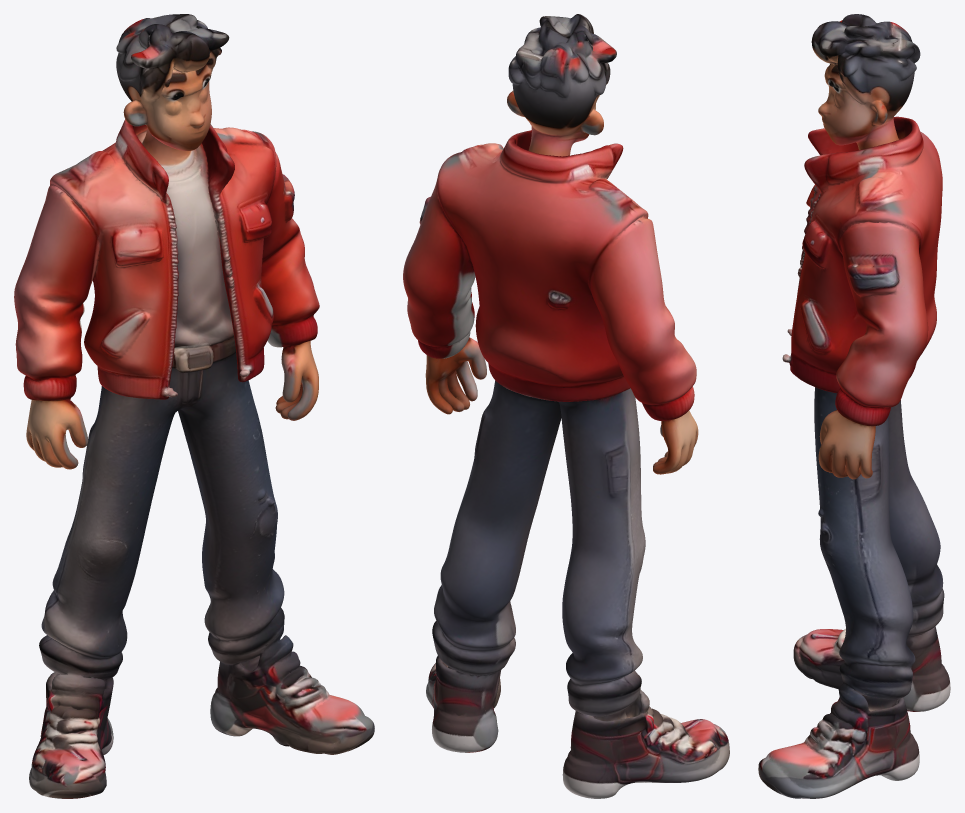
The model's file is mc-ren.glb.
The picture shows the model from 3 angles, left to right: view 1: azimuth 30°, elevation 25°; view 2: azimuth 150°, elevation 25°; view 3: azimuth 270°, elevation 25°; orthographic projection. The views are drawn at different scales.
Visible parts, largest first — view 1: tripo_node_f824498c-90a7-42e5-9fda-d8c950ad79d7; view 2: tripo_node_f824498c-90a7-42e5-9fda-d8c950ad79d7; view 3: tripo_node_f824498c-90a7-42e5-9fda-d8c950ad79d7.
Part boxes in pixels (x1=…): tripo_node_f824498c-90a7-42e5-9fda-d8c950ad79d7: x1=14, y1=14, x2=374, y2=798; tripo_node_f824498c-90a7-42e5-9fda-d8c950ad79d7: x1=403, y1=14, x2=729, y2=798; tripo_node_f824498c-90a7-42e5-9fda-d8c950ad79d7: x1=758, y1=14, x2=950, y2=798.
Bounding box in the file's own units: 0.443 × 1 × 0.244.
Materials: 1 (1 with a texture image).
